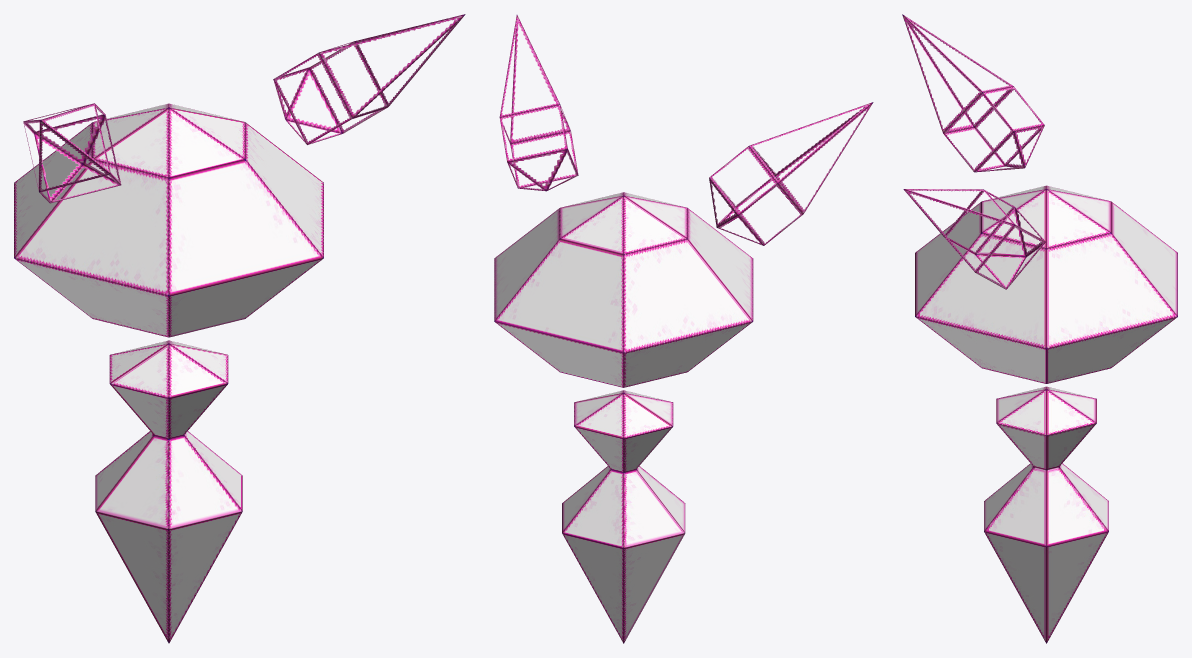
File: enemy_02.fbx
The picture shows the model from 3 angles, left to right: view 1: azimuth 30°, elevation 25°; view 2: azimuth 150°, elevation 25°; view 3: azimuth 270°, elevation 25°; orthographic projection. The views are drawn at different scales.
Visible parts, largest first — view 1: pSphere6; view 2: pSphere6; view 3: pSphere6.
Boxes of the visible parts, left/top/right/bottom form: pSphere6: left=14, top=14, right=465, bottom=643; pSphere6: left=494, top=15, right=873, bottom=643; pSphere6: left=902, top=14, right=1177, bottom=643.
Size of the model in its own units: 262 by 376 by 173.
